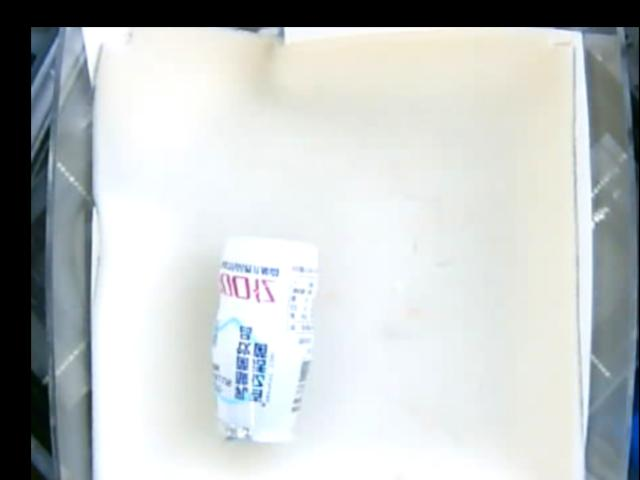Bottle: (215, 236, 319, 443)
